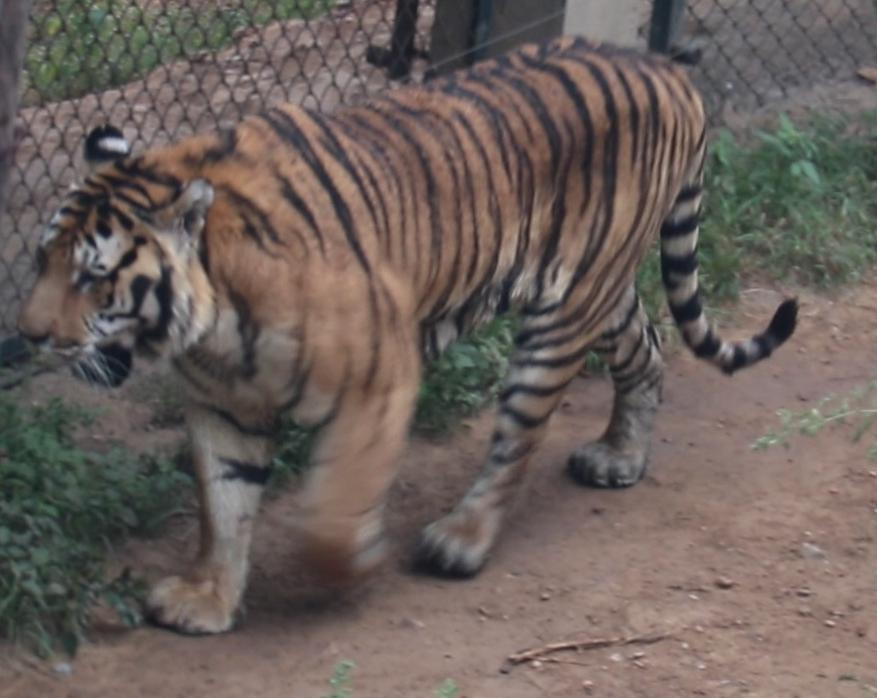tiger: (21, 36, 797, 633)
